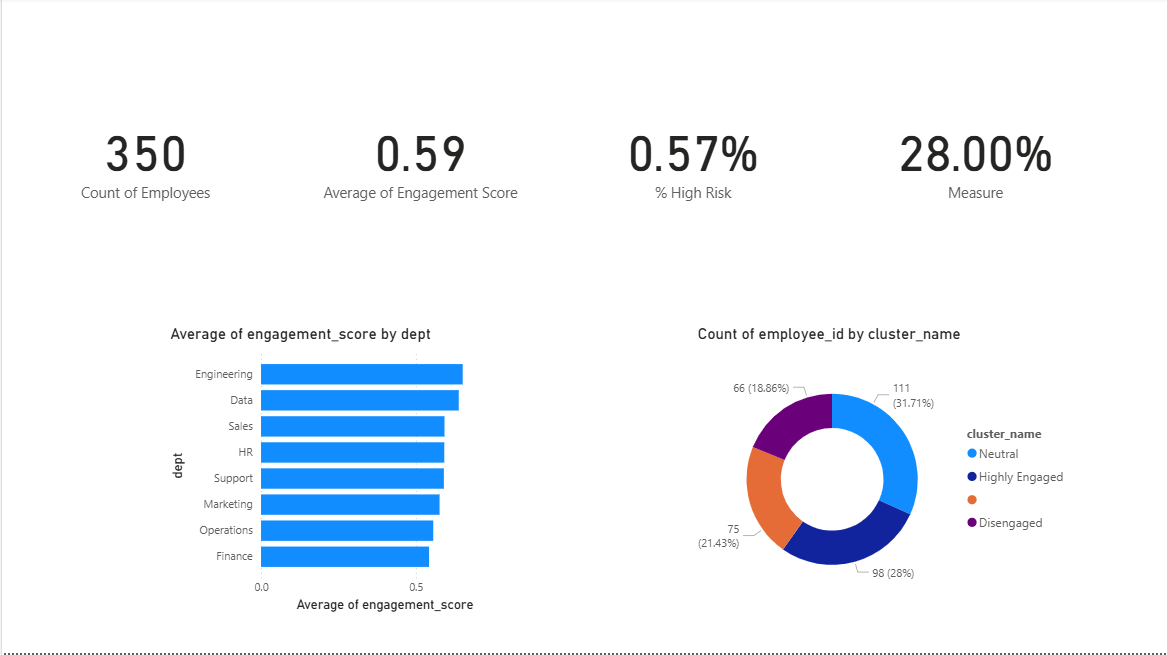

The page's visual inventory and layout, read from the dashboard file:
{"tool":"powerbi","page":{"name":"Executive Overview","canvas":[1280,720],"ordinal":0},"visuals":[{"type":"card","fields":{"Values":["CountNonNull(dim_employee.employee_id)"]},"box":[17.8,35.7,279.9,279.9],"z":0},{"type":"card","fields":{"Values":["Avg(features_latest.engagement_score)"]},"box":[319.7,35.7,279.9,279.9],"z":1000},{"type":"card","fields":{"Values":["dim_employee.Measure 2"]},"box":[618.9,35.7,279.9,279.9],"z":2000},{"type":"card","fields":{"Values":["dim_employee.Measure"]},"box":[929,35.7,279.9,279.9],"z":3000},{"type":"barChart","fields":{"Category":["dim_employee.dept"],"Y":["Avg(features_latest.engagement_score)"]},"box":[179.8,359.5,389.7,321.1],"z":4000},{"type":"donutChart","fields":{"Y":["CountNonNull(dim_employee.employee_id)"],"Category":["features_latest.cluster_name"]},"box":[758.8,359.5,421.3,321.1],"z":5000}]}

Visuals, with their boxes in screenshot pixels (x1, y1, x2, y2), scaled from the page's 1280x720 canvas onto the 1167x655 screenshot:
card - CountNonNull(dim_employee.employee_id): {"left": 16, "top": 32, "right": 271, "bottom": 287}
card - Avg(features_latest.engagement_score): {"left": 291, "top": 32, "right": 547, "bottom": 287}
card - dim_employee.Measure 2: {"left": 564, "top": 32, "right": 819, "bottom": 287}
card - dim_employee.Measure: {"left": 847, "top": 32, "right": 1102, "bottom": 287}
barChart - dim_employee.dept x Avg(features_latest.engagement_score): {"left": 164, "top": 327, "right": 519, "bottom": 619}
donutChart - CountNonNull(dim_employee.employee_id) x features_latest.cluster_name: {"left": 692, "top": 327, "right": 1076, "bottom": 619}
